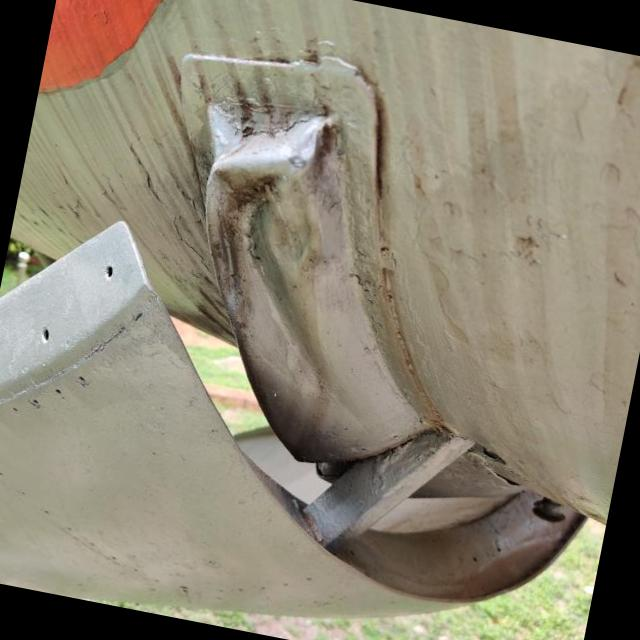Dent: (204, 103, 347, 409)
